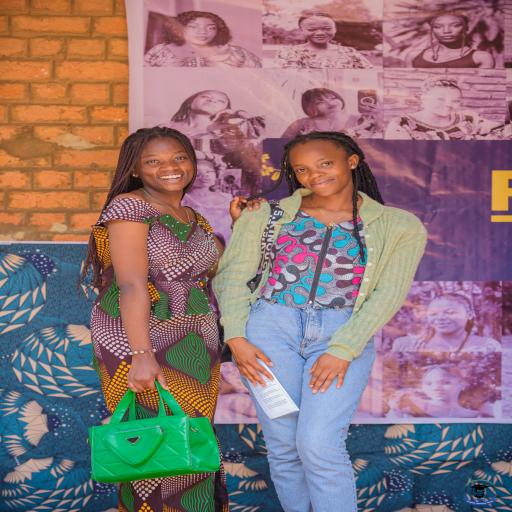LAURENE: (116, 125, 207, 199)
